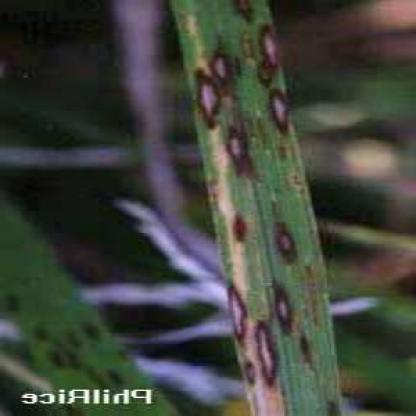Rice blast: (273, 215, 303, 281), (191, 74, 224, 130), (262, 85, 295, 137), (256, 320, 278, 393), (267, 281, 292, 339), (230, 273, 246, 345), (234, 127, 246, 169)
